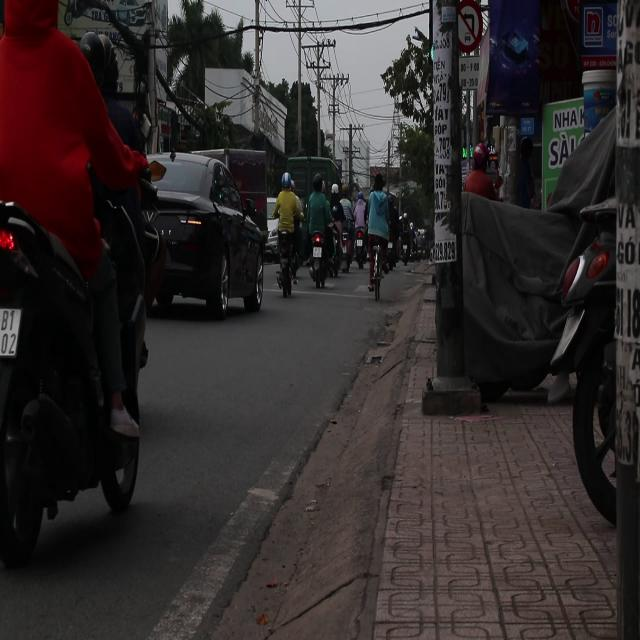car: (146, 152, 267, 318)
motorbike: (0, 175, 146, 558), (308, 227, 332, 297)
